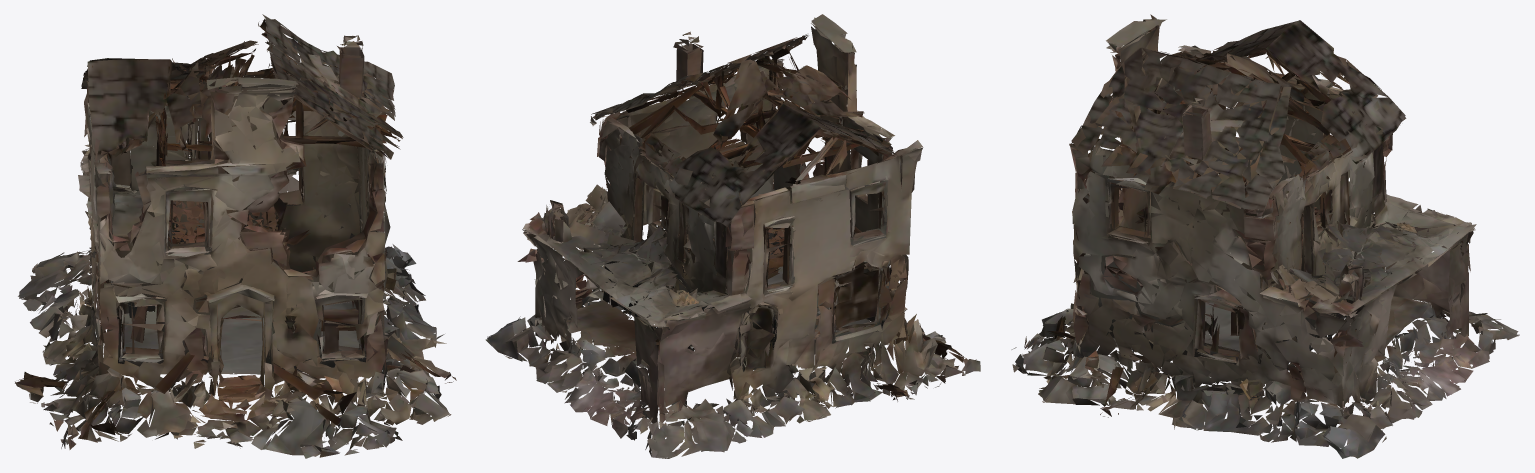
File: Building3_collider.fbx
3 views of the same model, side by side, from view 1: azimuth 30°, elevation 25°; view 2: azimuth 150°, elevation 25°; view 3: azimuth 270°, elevation 25° (orthographic). The views are drawn at different scales.
Visible parts, largest first — view 1: Mesh_0.001; view 2: Mesh_0.001; view 3: Mesh_0.001.
Part boxes in pixels (left/top/right/bottom): Mesh_0.001: left=15, top=14, right=456, bottom=458; Mesh_0.001: left=485, top=14, right=980, bottom=458; Mesh_0.001: left=1011, top=14, right=1519, bottom=458.
Bounding box in the file's own units: 0.8963 × 0.6397 × 0.9412.
1 material, 1 textured.
